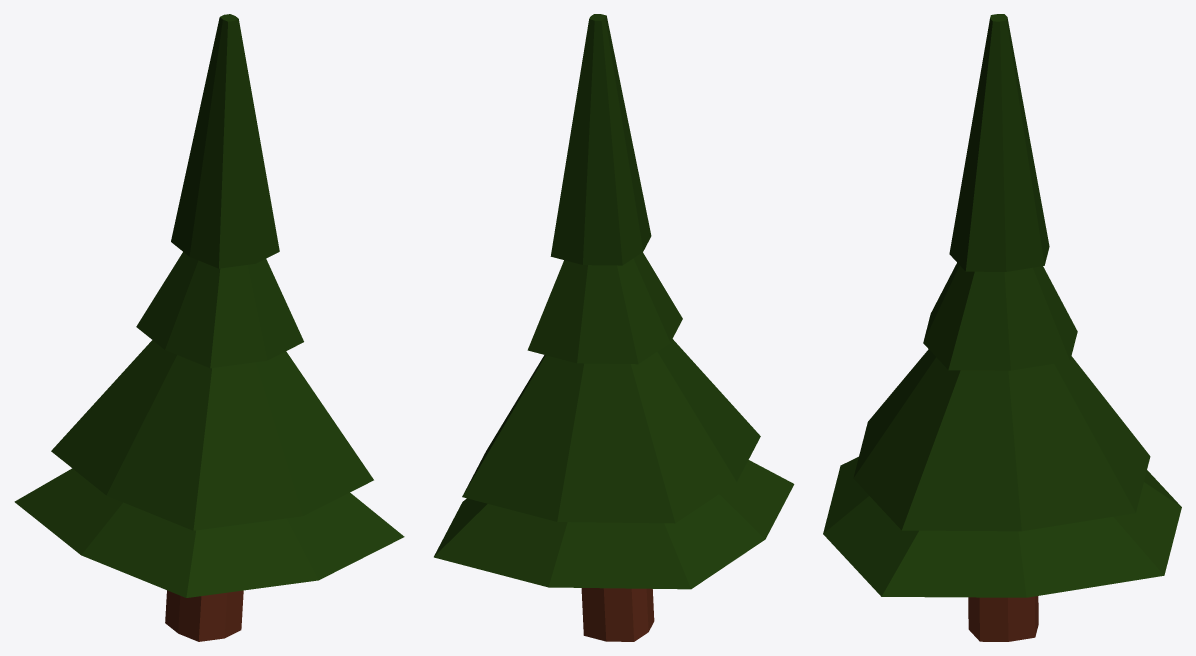
File: TreesInTheDistance-2.fbx
3 renders of one model, left to right at view 1: azimuth 30°, elevation 25°; view 2: azimuth 150°, elevation 25°; view 3: azimuth 270°, elevation 25°, orthographic. The views are drawn at different scales.
Visible parts, largest first — view 1: TreeDistant-1.353; view 2: TreeDistant-1.353; view 3: TreeDistant-1.353.
Boxes of the visible parts, x1,y1,x2,y2 form: TreeDistant-1.353: (14,14,404,641); TreeDistant-1.353: (434,14,794,641); TreeDistant-1.353: (823,14,1181,641).
Size of the model in its own units: 284 by 263 by 545.
